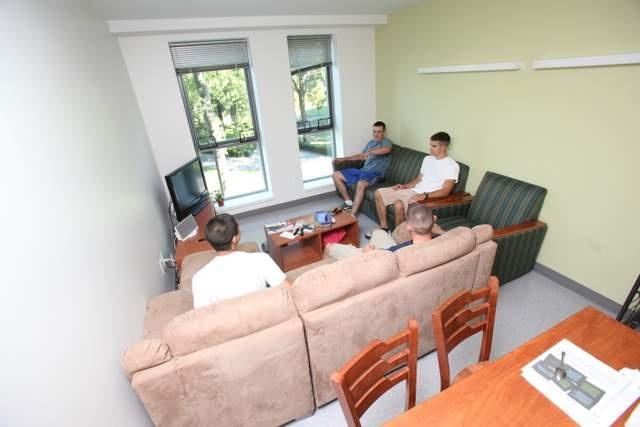AIO PC-Monitor-TV: (163, 156, 209, 222)
Kursi: (429, 274, 499, 392)
